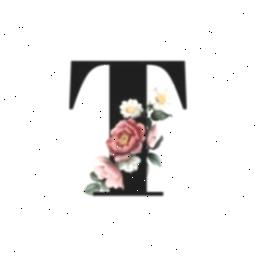t: (54, 44, 202, 214)
